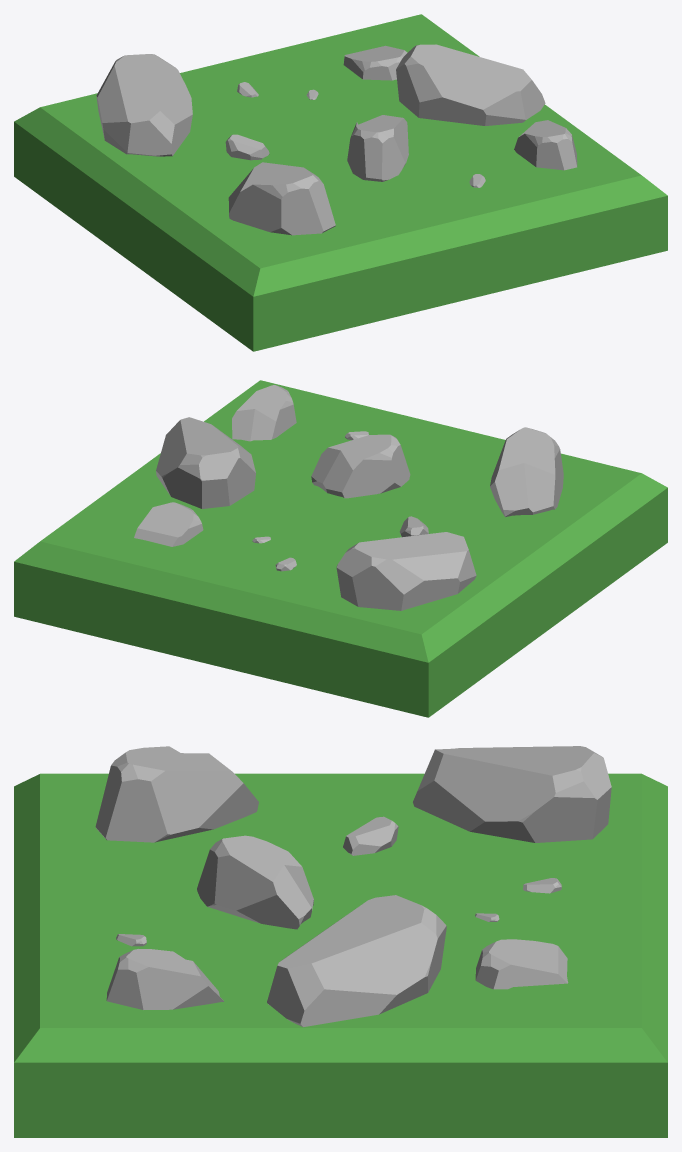
Rendered from RocksTile.fbx.
The picture shows the model from 3 angles, top to bottom: view 1: azimuth 30°, elevation 25°; view 2: azimuth 150°, elevation 25°; view 3: azimuth 270°, elevation 25°; orthographic projection. The views are drawn at different scales.
Parts seen in each view (by area): view 1: Cube, Icosphere.009, Icosphere.004, Icosphere.007, Icosphere.008, Icosphere.006, Icosphere.005, Icosphere.011; view 2: Cube, Icosphere.004, Icosphere.009, Icosphere.007, Icosphere.008, Icosphere.006, Icosphere.005; view 3: Cube, Icosphere.004, Icosphere.009, Icosphere.007, Icosphere.008, Icosphere.006, Icosphere.005, Icosphere.011.
Part boxes in pixels (<box>): Cube: <box>14,14,667,351</box>; Icosphere.009: <box>396,44,545,125</box>; Icosphere.004: <box>96,54,192,156</box>; Icosphere.007: <box>228,162,335,235</box>; Icosphere.008: <box>347,115,408,181</box>; Icosphere.006: <box>514,120,577,170</box>; Icosphere.005: <box>343,45,407,80</box>; Icosphere.011: <box>225,134,269,160</box>; Cube: <box>14,380,667,717</box>; Icosphere.004: <box>336,532,476,610</box>; Icosphere.009: <box>156,417,255,508</box>; Icosphere.007: <box>490,427,563,516</box>; Icosphere.008: <box>311,434,410,498</box>; Icosphere.006: <box>232,385,296,441</box>; Icosphere.005: <box>134,502,203,546</box>; Cube: <box>14,773,667,1137</box>; Icosphere.004: <box>413,746,611,842</box>; Icosphere.009: <box>267,895,446,1027</box>; Icosphere.007: <box>95,746,258,842</box>; Icosphere.008: <box>197,835,313,929</box>; Icosphere.006: <box>106,949,223,1009</box>; Icosphere.005: <box>475,939,568,989</box>; Icosphere.011: <box>343,816,398,855</box>.
Size of the model in its own units: 600 by 168 by 600.
